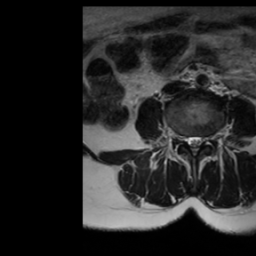CCS_normal: (190, 129, 197, 159)
LFS_stenosis: (204, 130, 211, 150)
LLS_stenosis: (197, 129, 204, 151)
RFS_stenosis: (178, 128, 184, 148)
RLS_stenosis: (184, 130, 191, 150)
